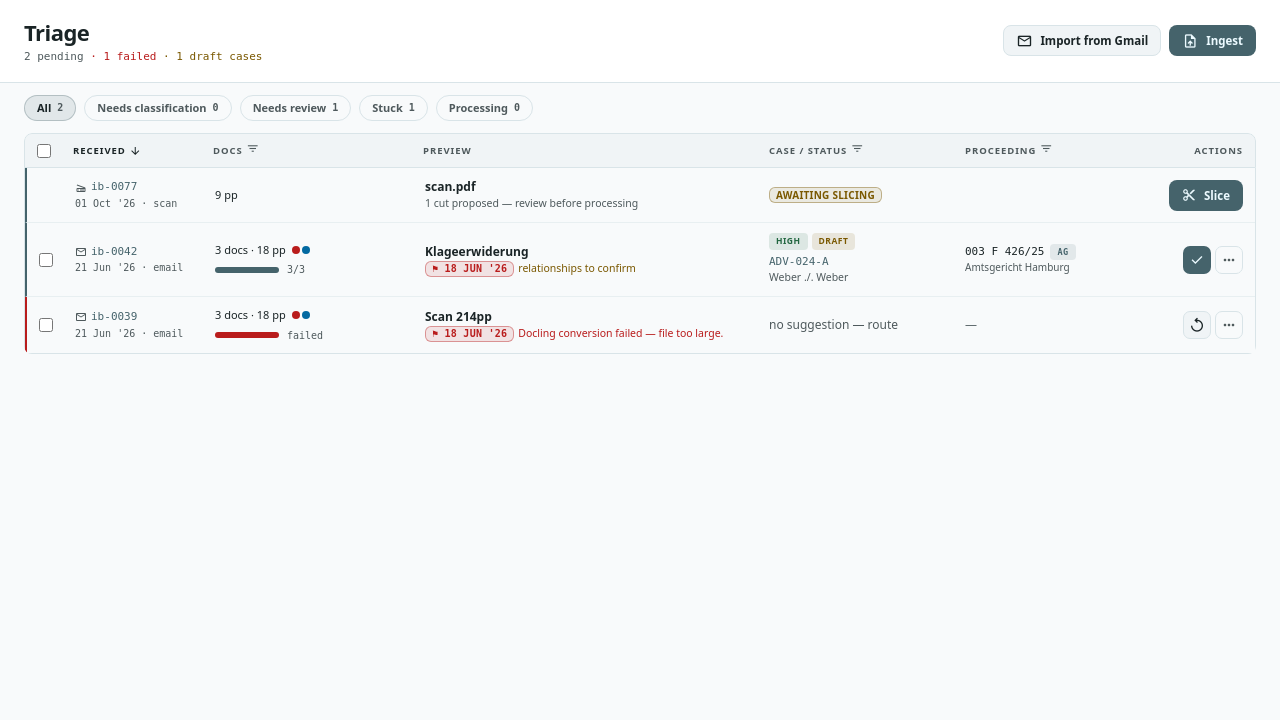
Test: confirm uses the AI suggestion and posts the routing
The image size is (1280, 720).
Click the button named "Confirm".
click(1197, 260)  # box [1183,246,1211,274]
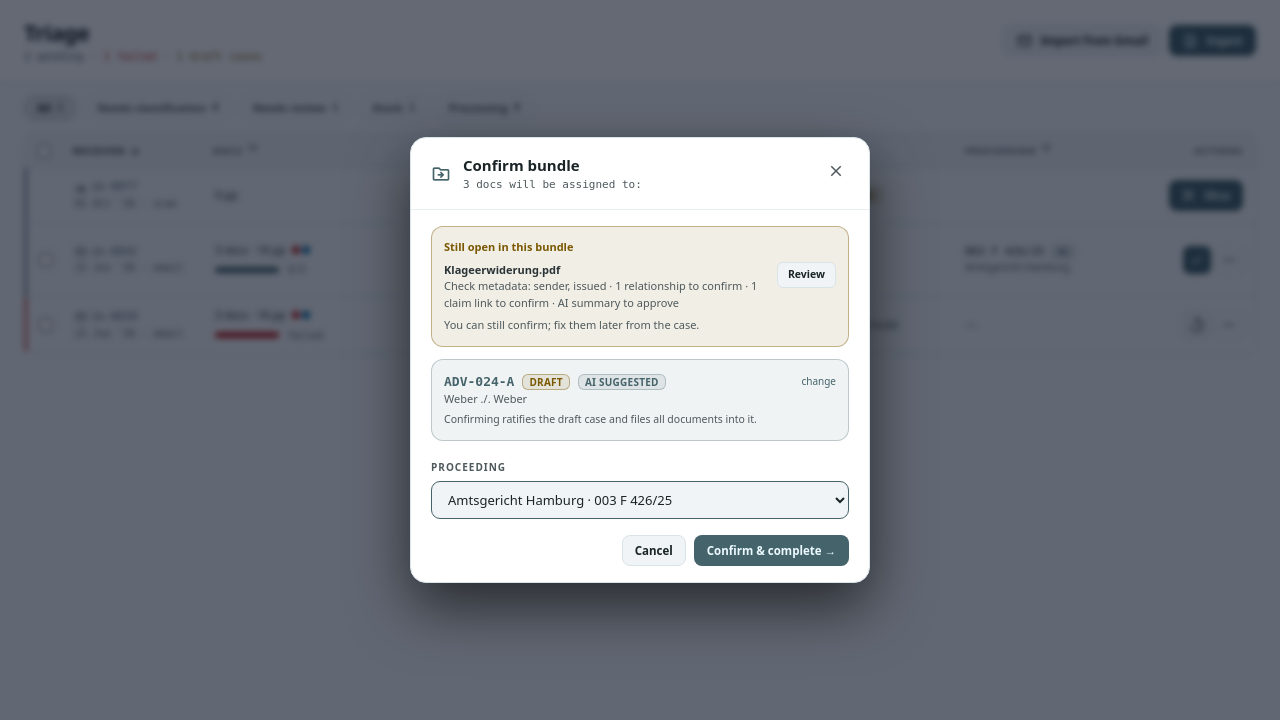
expect the text "AI suggested" is shown: met, box [578,374,666,390]
Click the button "Confirm & complete →".
click(771, 550)  # box [694,534,849,566]
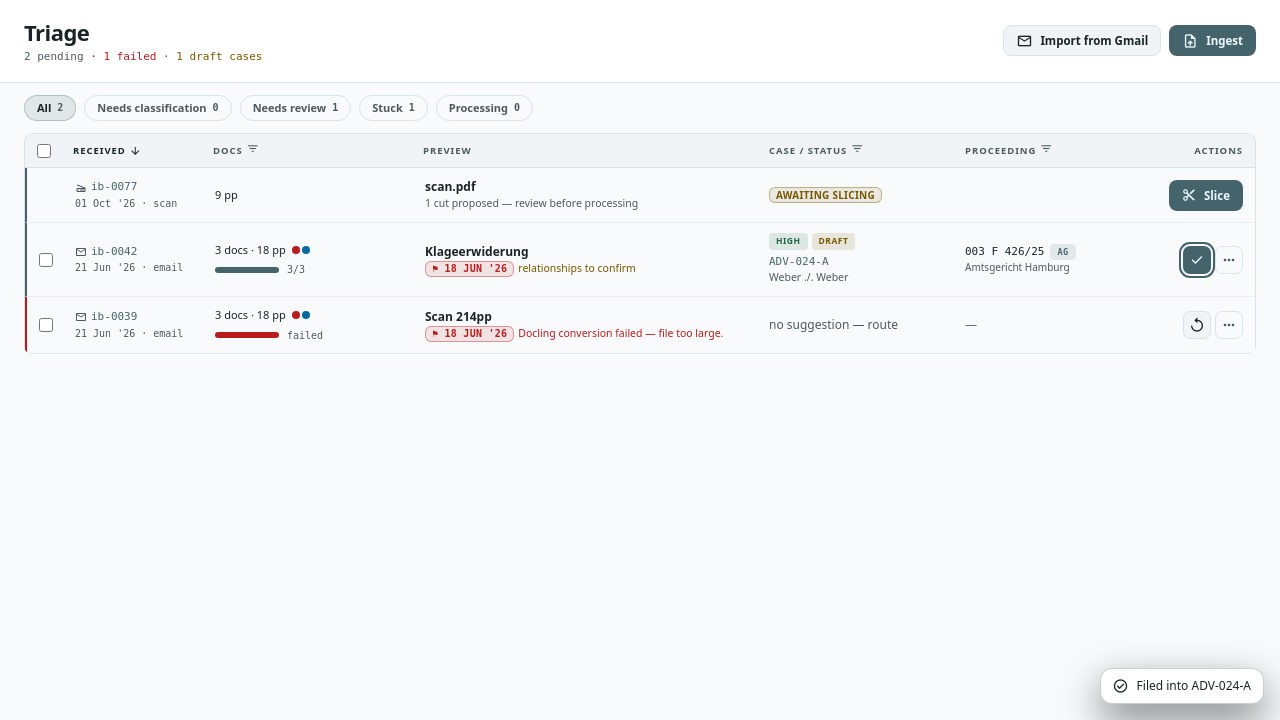
expect the message reads "Filed into ADV-024-A": met, box [1137,677,1251,694]
